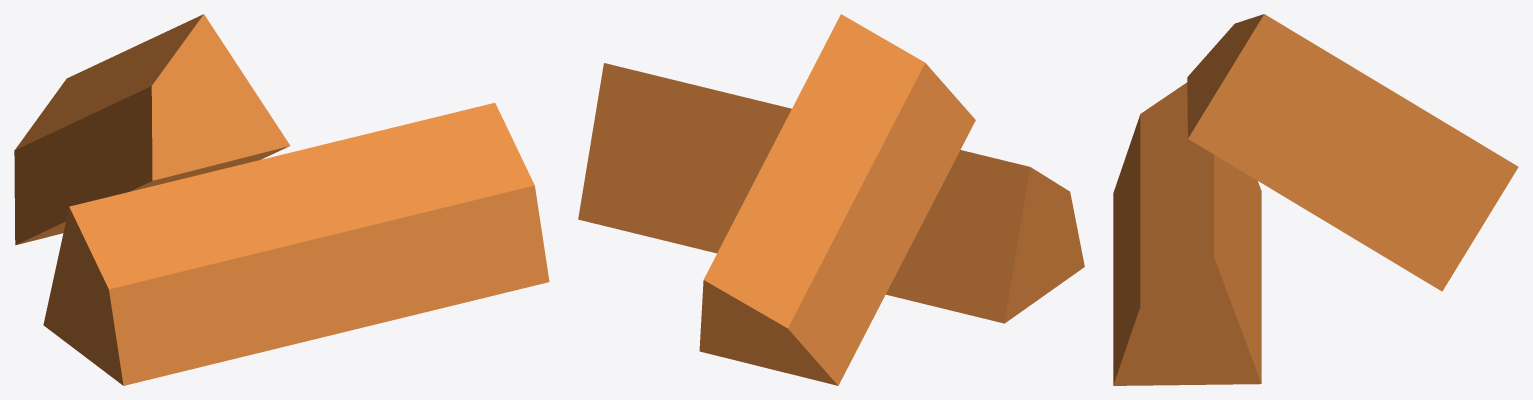
File: trunk03.glb
3 views of the same model, side by side, from view 1: azimuth 30°, elevation 25°; view 2: azimuth 150°, elevation 25°; view 3: azimuth 270°, elevation 25° (orthographic). The views are drawn at different scales.
Parts seen in each view (by area): view 1: Cylinder, Cylinder.001; view 2: Cylinder.001, Cylinder; view 3: Cylinder.001, Cylinder.
Boxes of the visible parts, x1=… form: Cylinder: x1=43, y1=103, x2=549, y2=385; Cylinder.001: x1=14, y1=14, x2=290, y2=245; Cylinder.001: x1=699, y1=14, x2=975, y2=385; Cylinder: x1=578, y1=63, x2=1084, y2=323; Cylinder.001: x1=1187, y1=14, x2=1518, y2=291; Cylinder: x1=1113, y1=82, x2=1261, y2=385.
Bounding box in the file's own units: 2.49 × 1.55 × 2.21.
